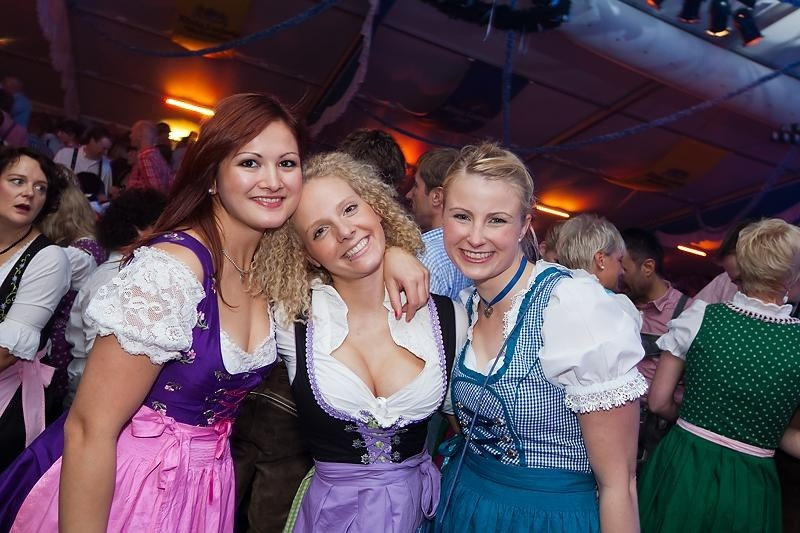face_no_mask: (204, 94, 301, 226), (443, 141, 535, 279), (294, 155, 388, 277), (558, 209, 627, 294), (2, 144, 55, 223), (399, 152, 451, 229)
